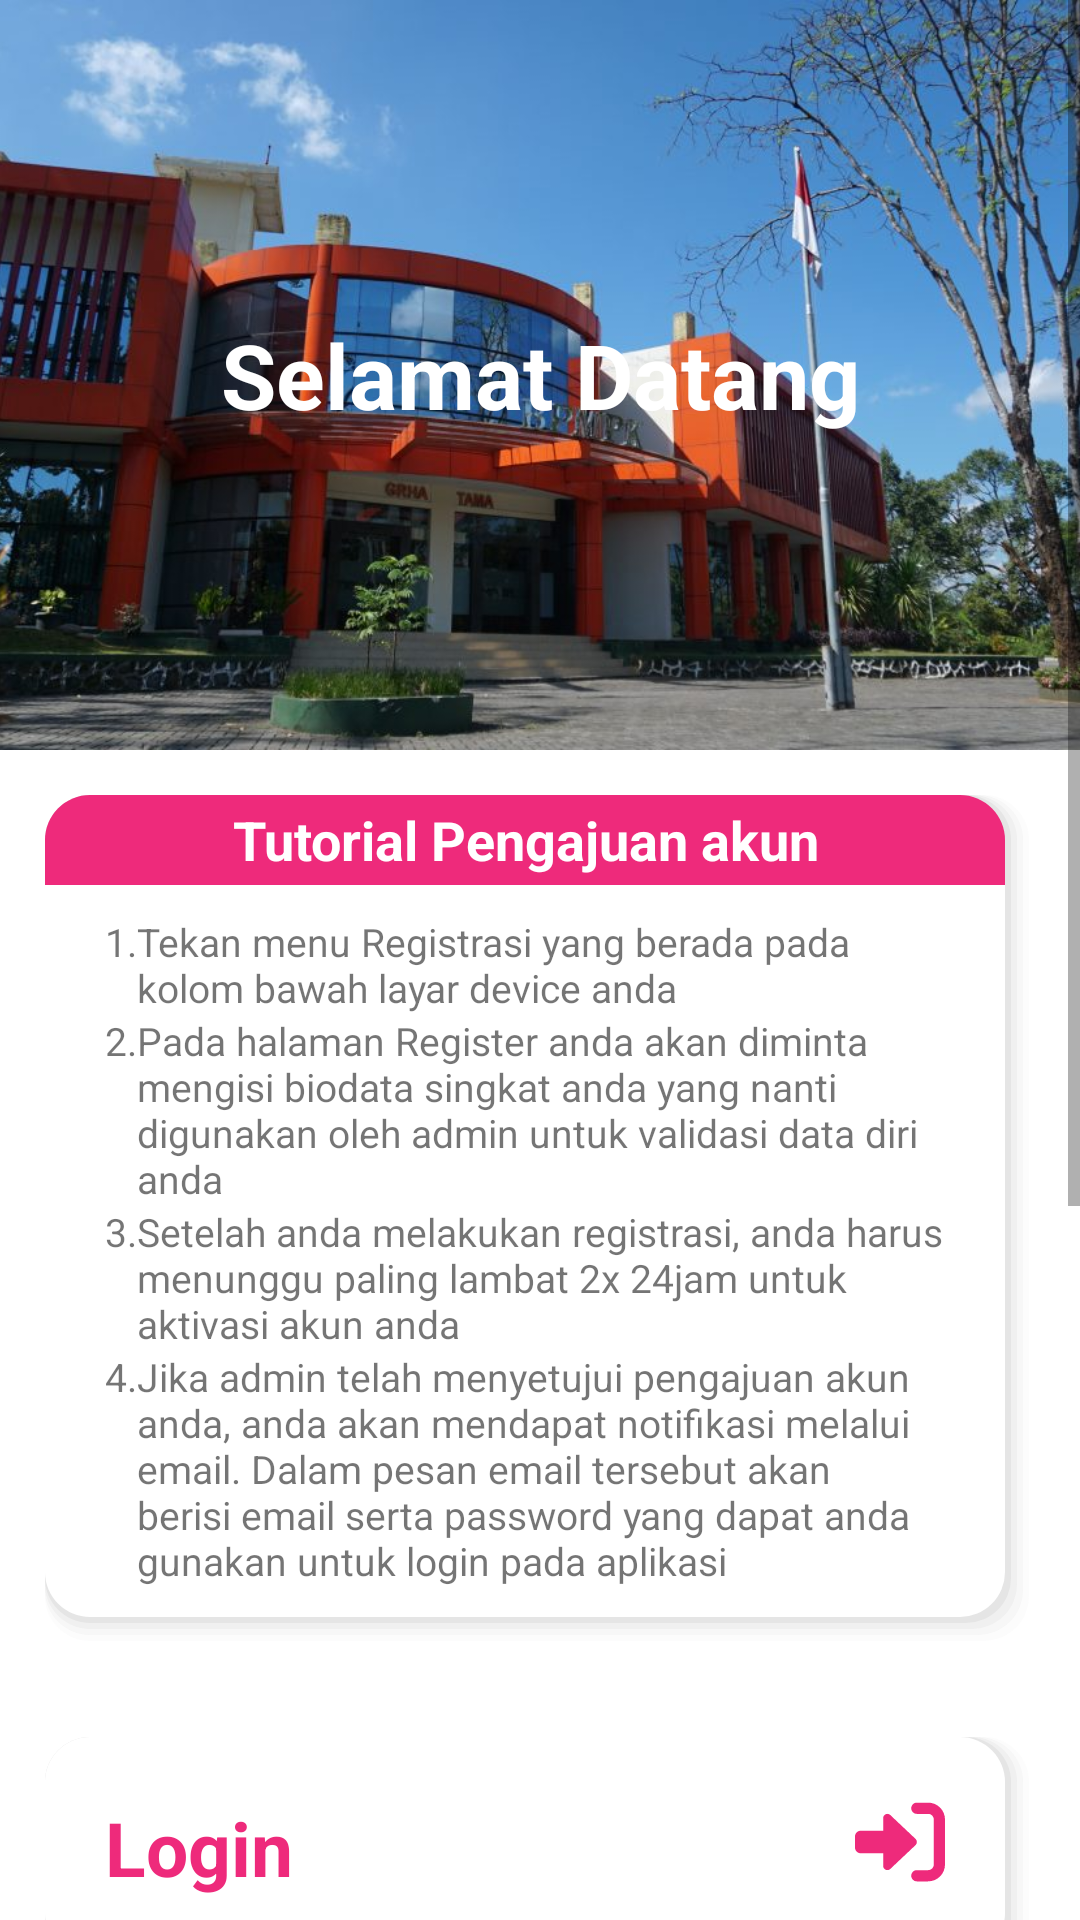

Where icons sit on this 1080*1920 app screen, as (x1, y1, x2, y2):
login: (855, 1802, 945, 1882)
